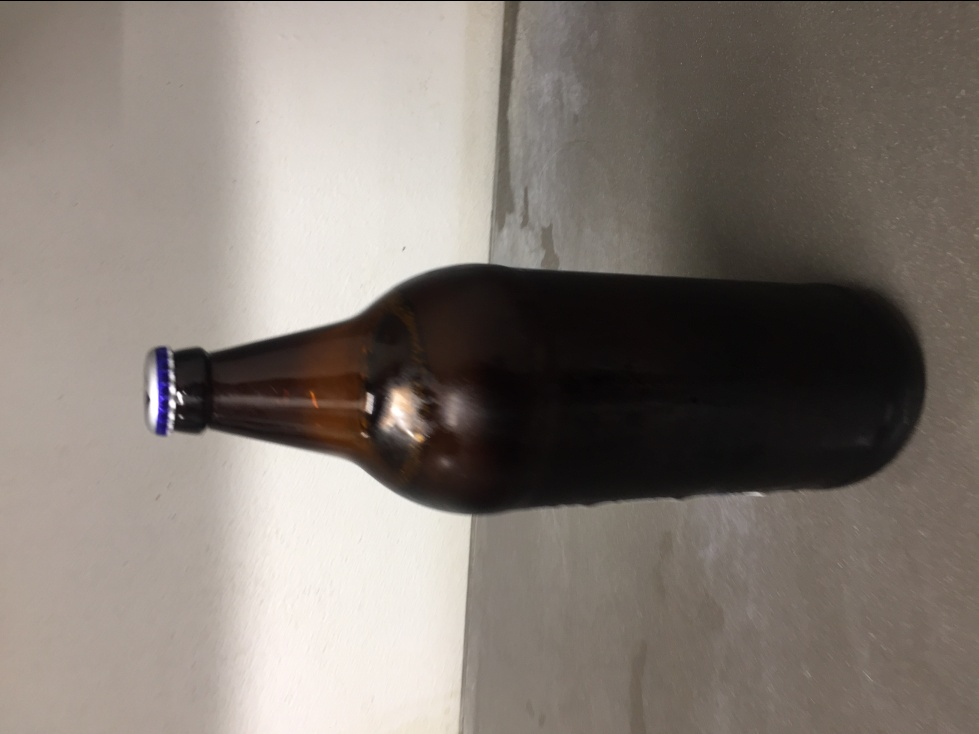tecateC: (141, 263, 925, 515)
